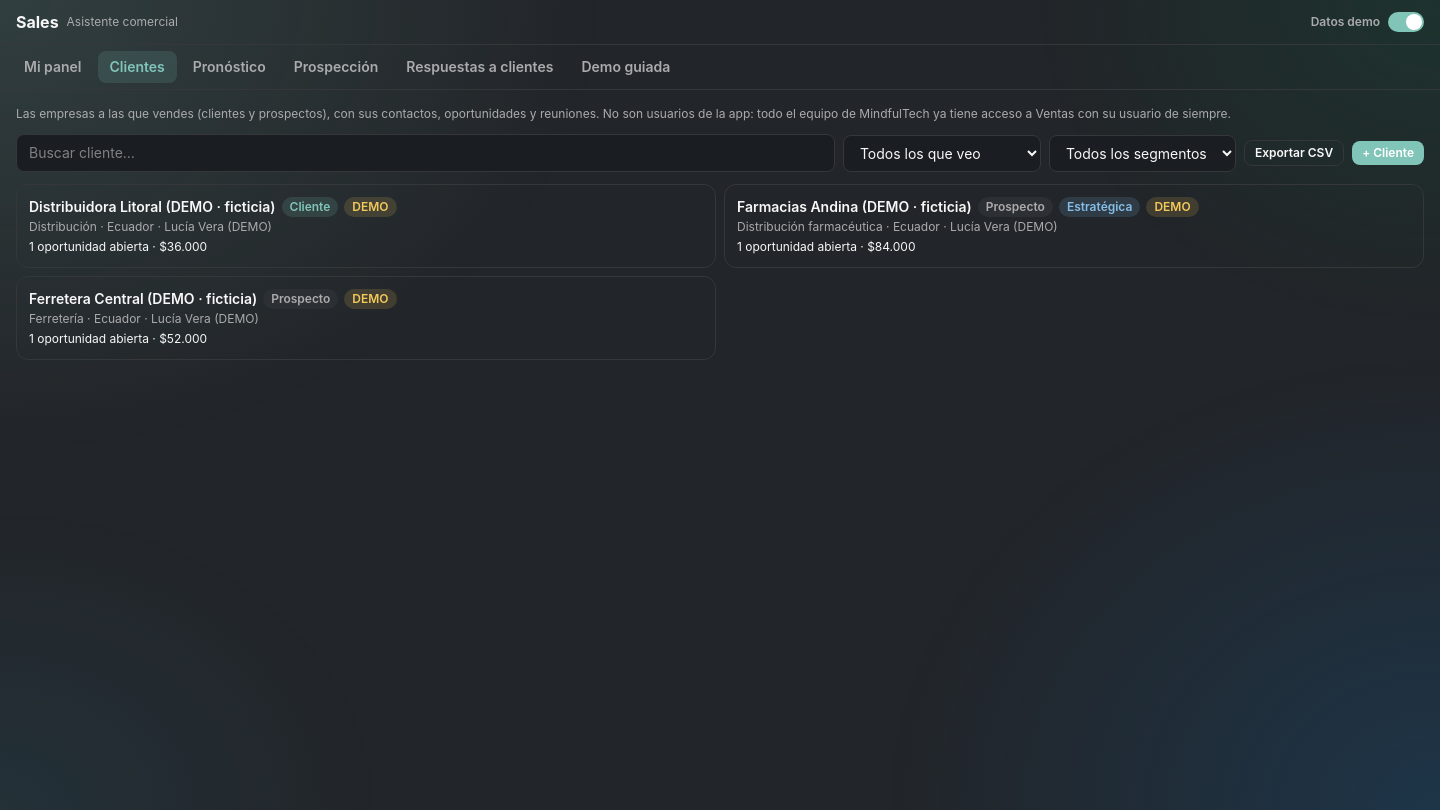
Test case: the demo data switch › hides the fictitious rows for this person, and brings them back
Check: the text "Farmacias Andina (DEMO · ficticia)" is shown, box [737,198,972,215]
Click the switch named "Datos demo". click: (1406, 22)
box: [1388,12,1424,32]
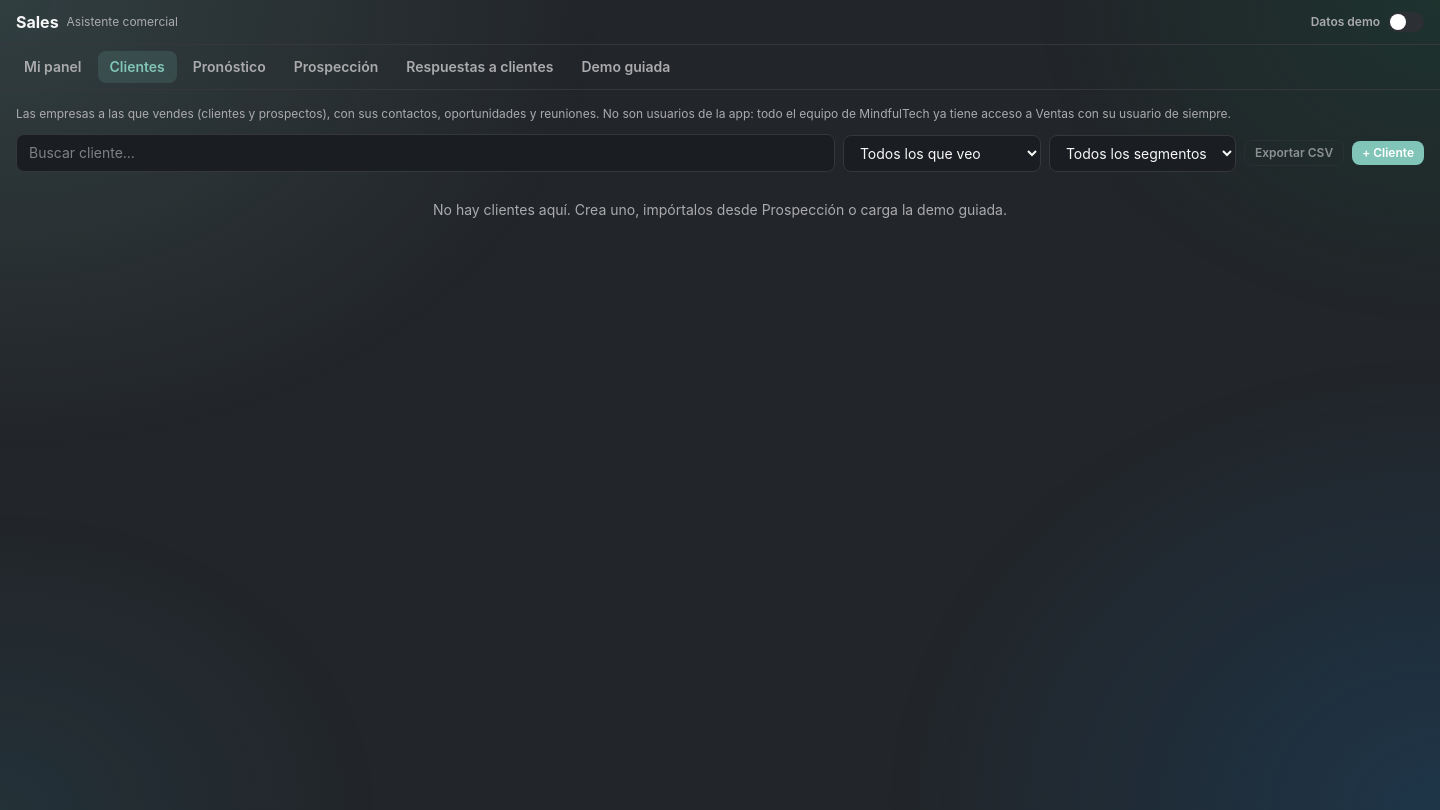
Check: the button "Farmacias Andina (DEMO · ficticia)" is gone
// Nothing was deleted on the server: on again, they're back without a reload.
Click the switch named "Datos demo". click: (1406, 22)
box: [1388,12,1424,32]
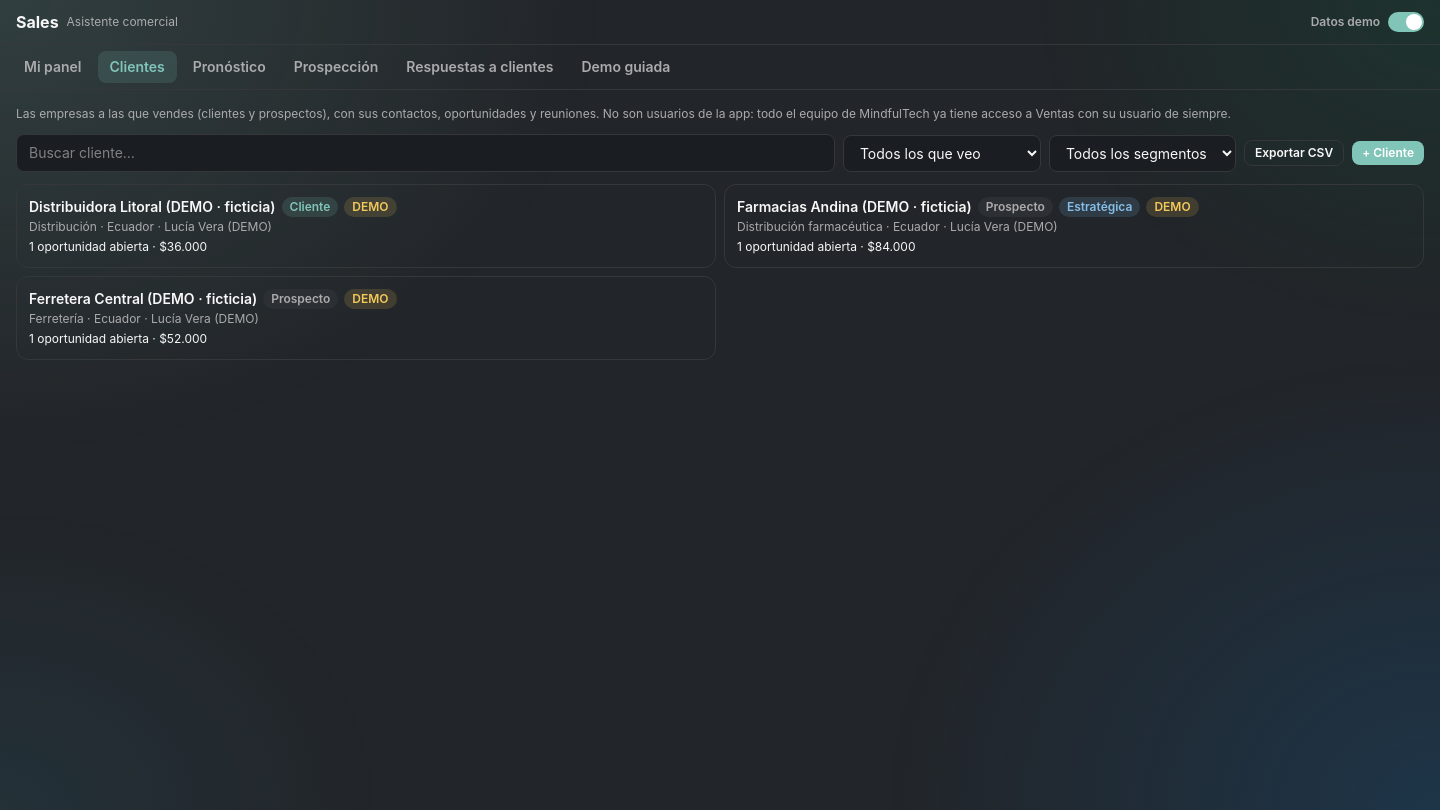
Check: the text "Farmacias Andina (DEMO · ficticia)" is shown, box [737,198,972,215]
